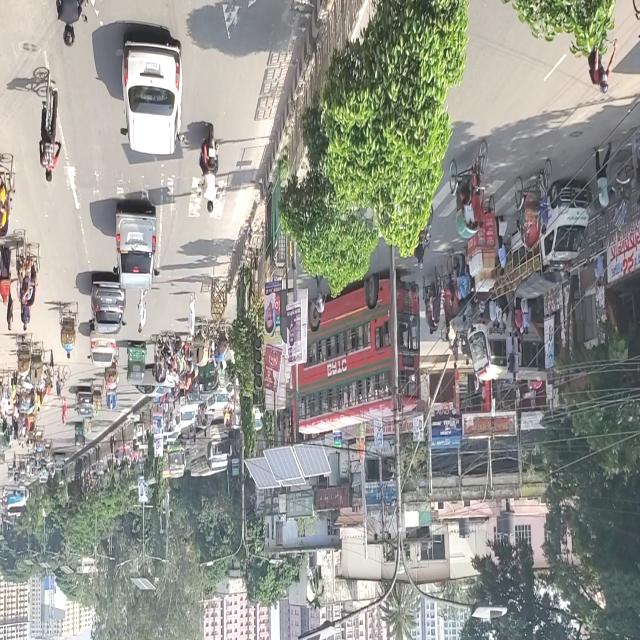black: (92, 277, 124, 332)
silver: (114, 206, 158, 290)
white: (123, 36, 181, 157)
